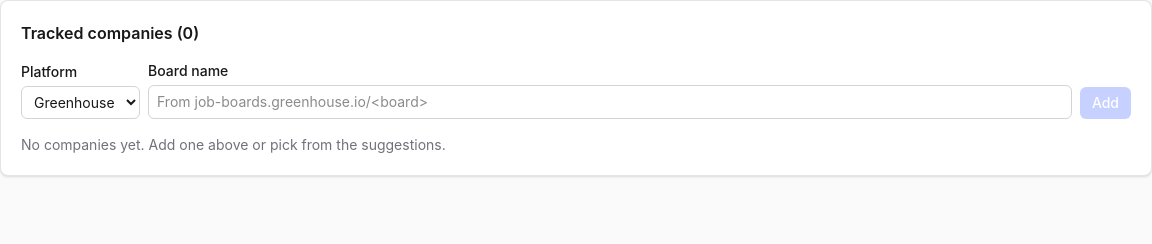
Test: CompaniesCard › adds a board and shows the server's error for unknown ones
Select "Lever" in the dropdown labelled "Platform". click: coordinates (80, 102)
box: [21,86,140,119]
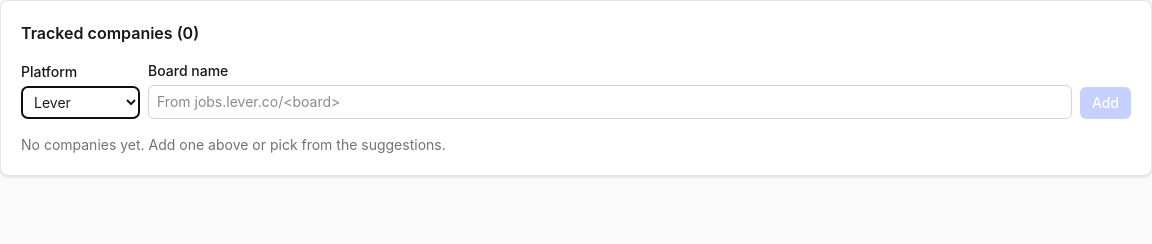
Type "nope" into the field labelled "Board name". click: coordinates (610, 102)
box: [148,85,1072,119]
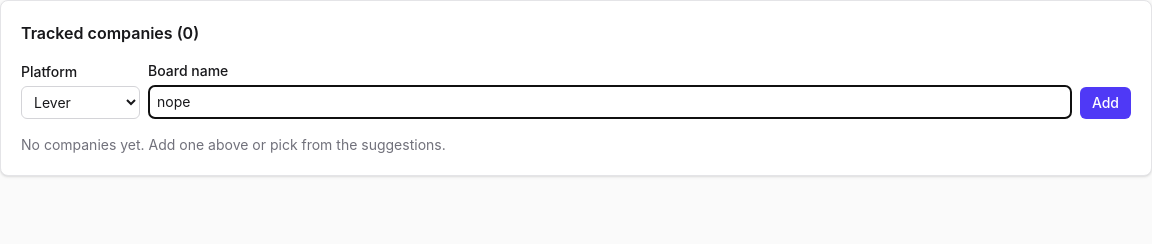
Click the button "Add". click: coordinates (1105, 103)
box: [1080,87,1131,119]
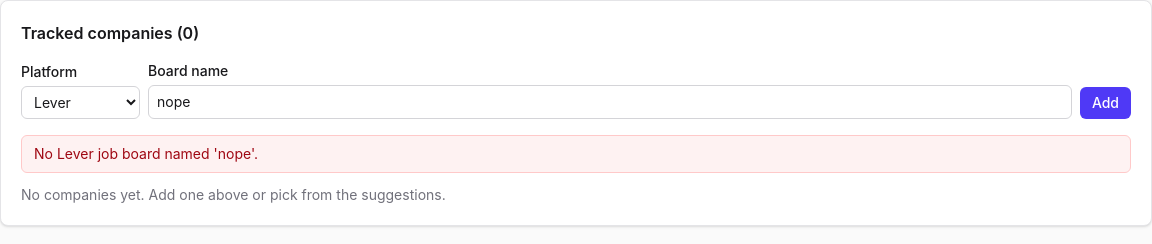
Check: the message shows "No Lever job board", box [34,145,258,162]
